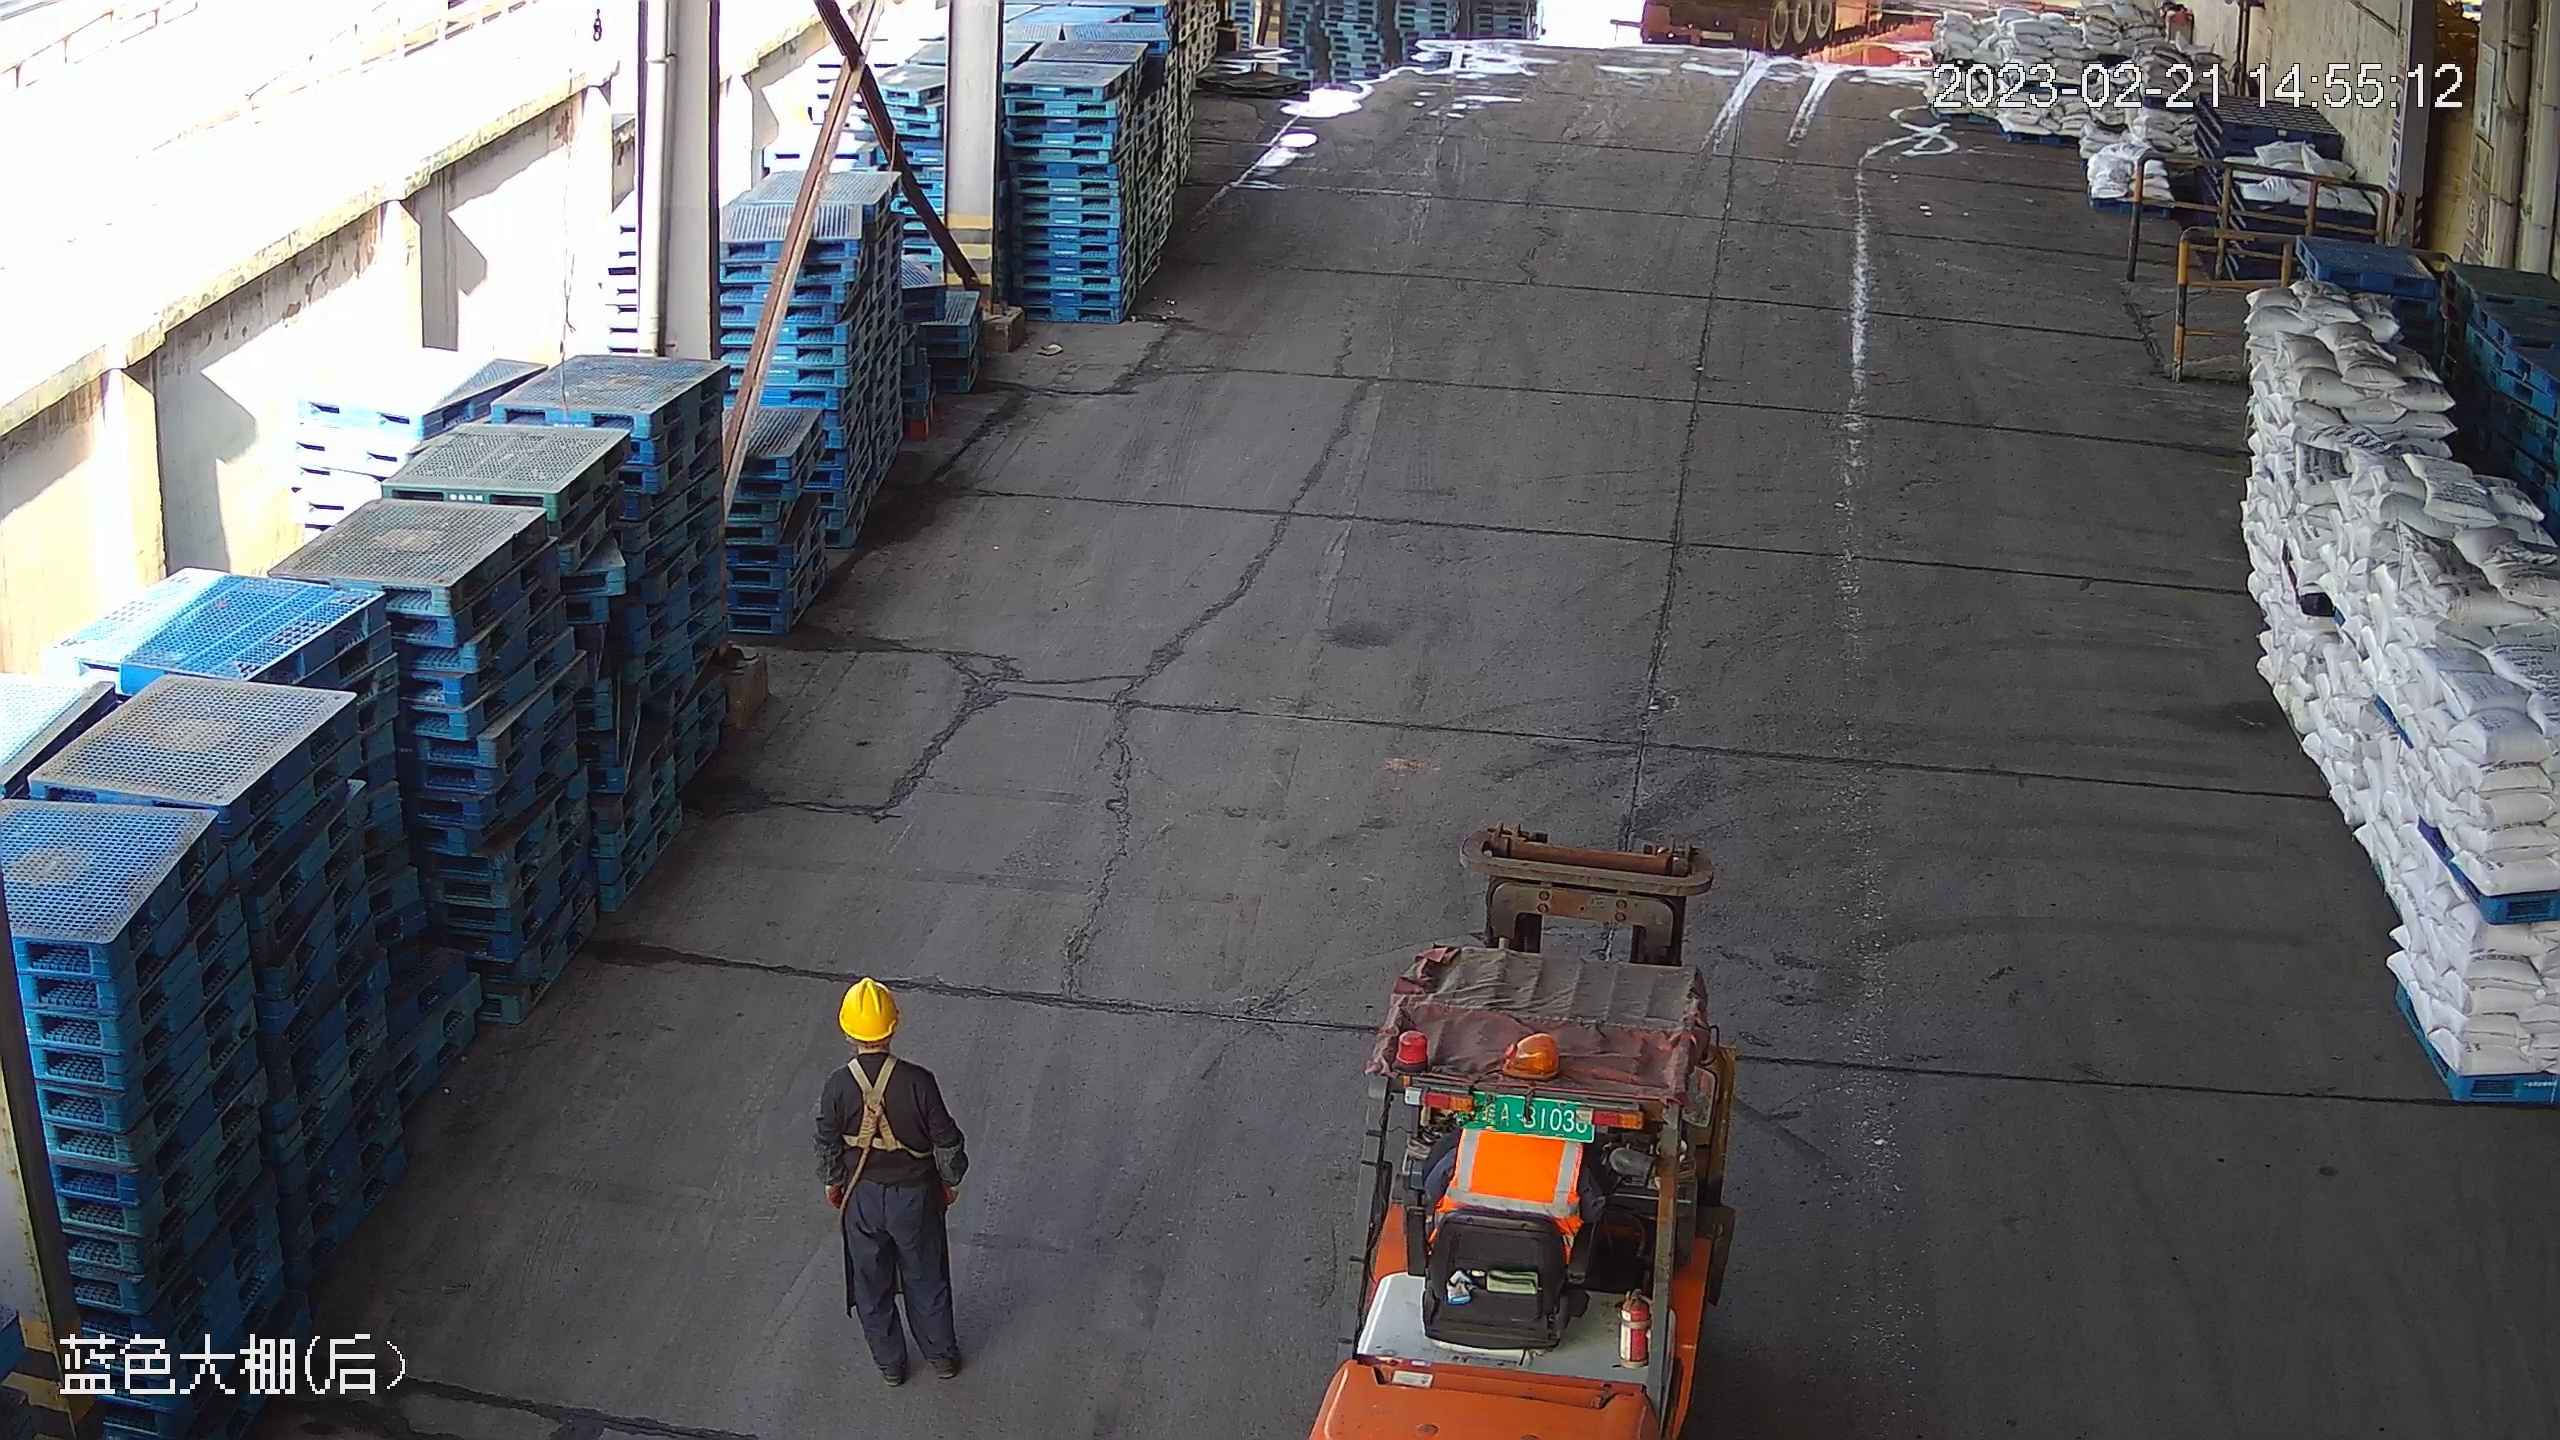belt: (837, 1058, 933, 1161)
head: (818, 977, 941, 1120)
helmet: (837, 976, 898, 1042)
people: (812, 977, 969, 1389)
